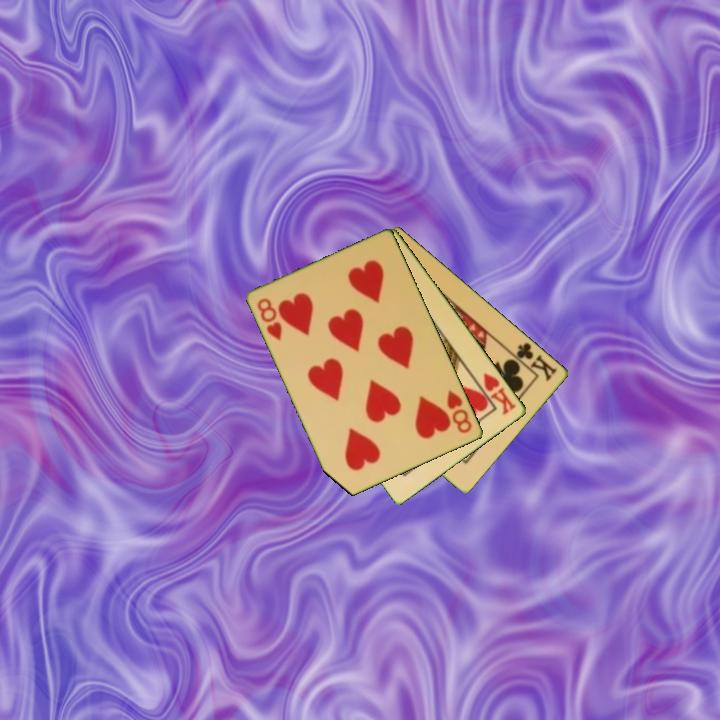8h: (443, 386, 475, 436), (254, 295, 286, 344)
Kc: (507, 339, 560, 384)
Kh: (472, 370, 520, 418)
